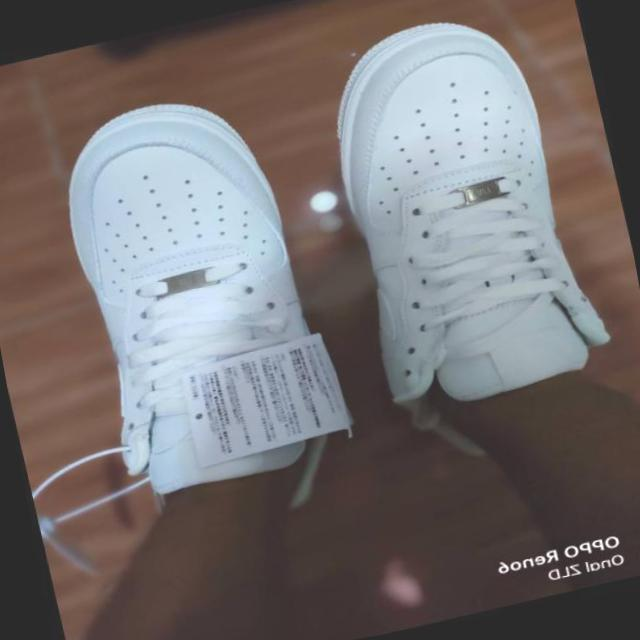nike_fake_airforce: (305, 0, 640, 477), (34, 72, 358, 546)
